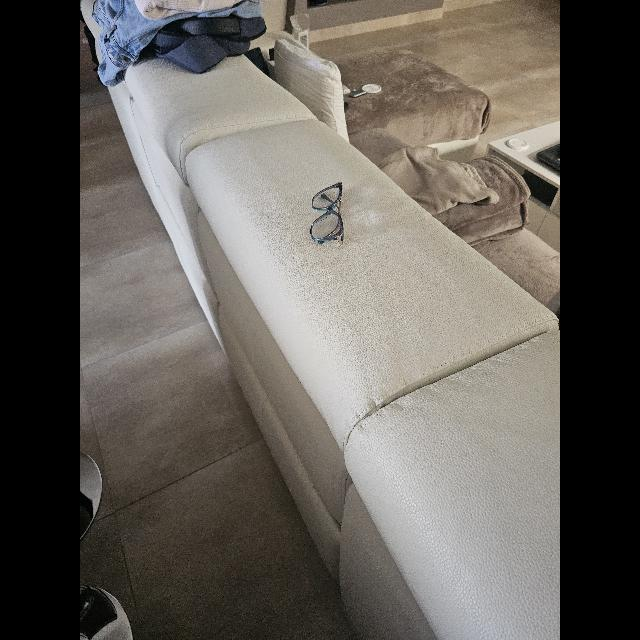glasses: (310, 182, 344, 244)
